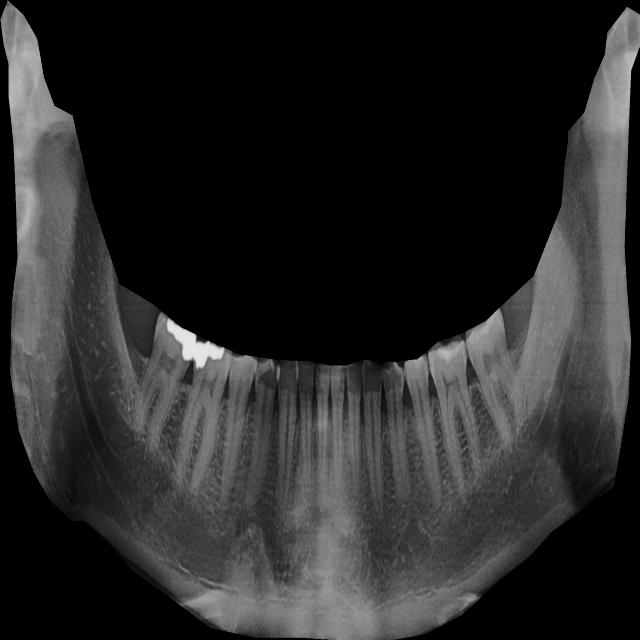mandibula: (0, 0, 640, 640)
